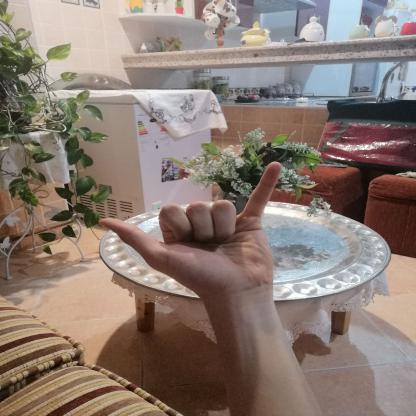YA: (84, 154, 294, 311)
